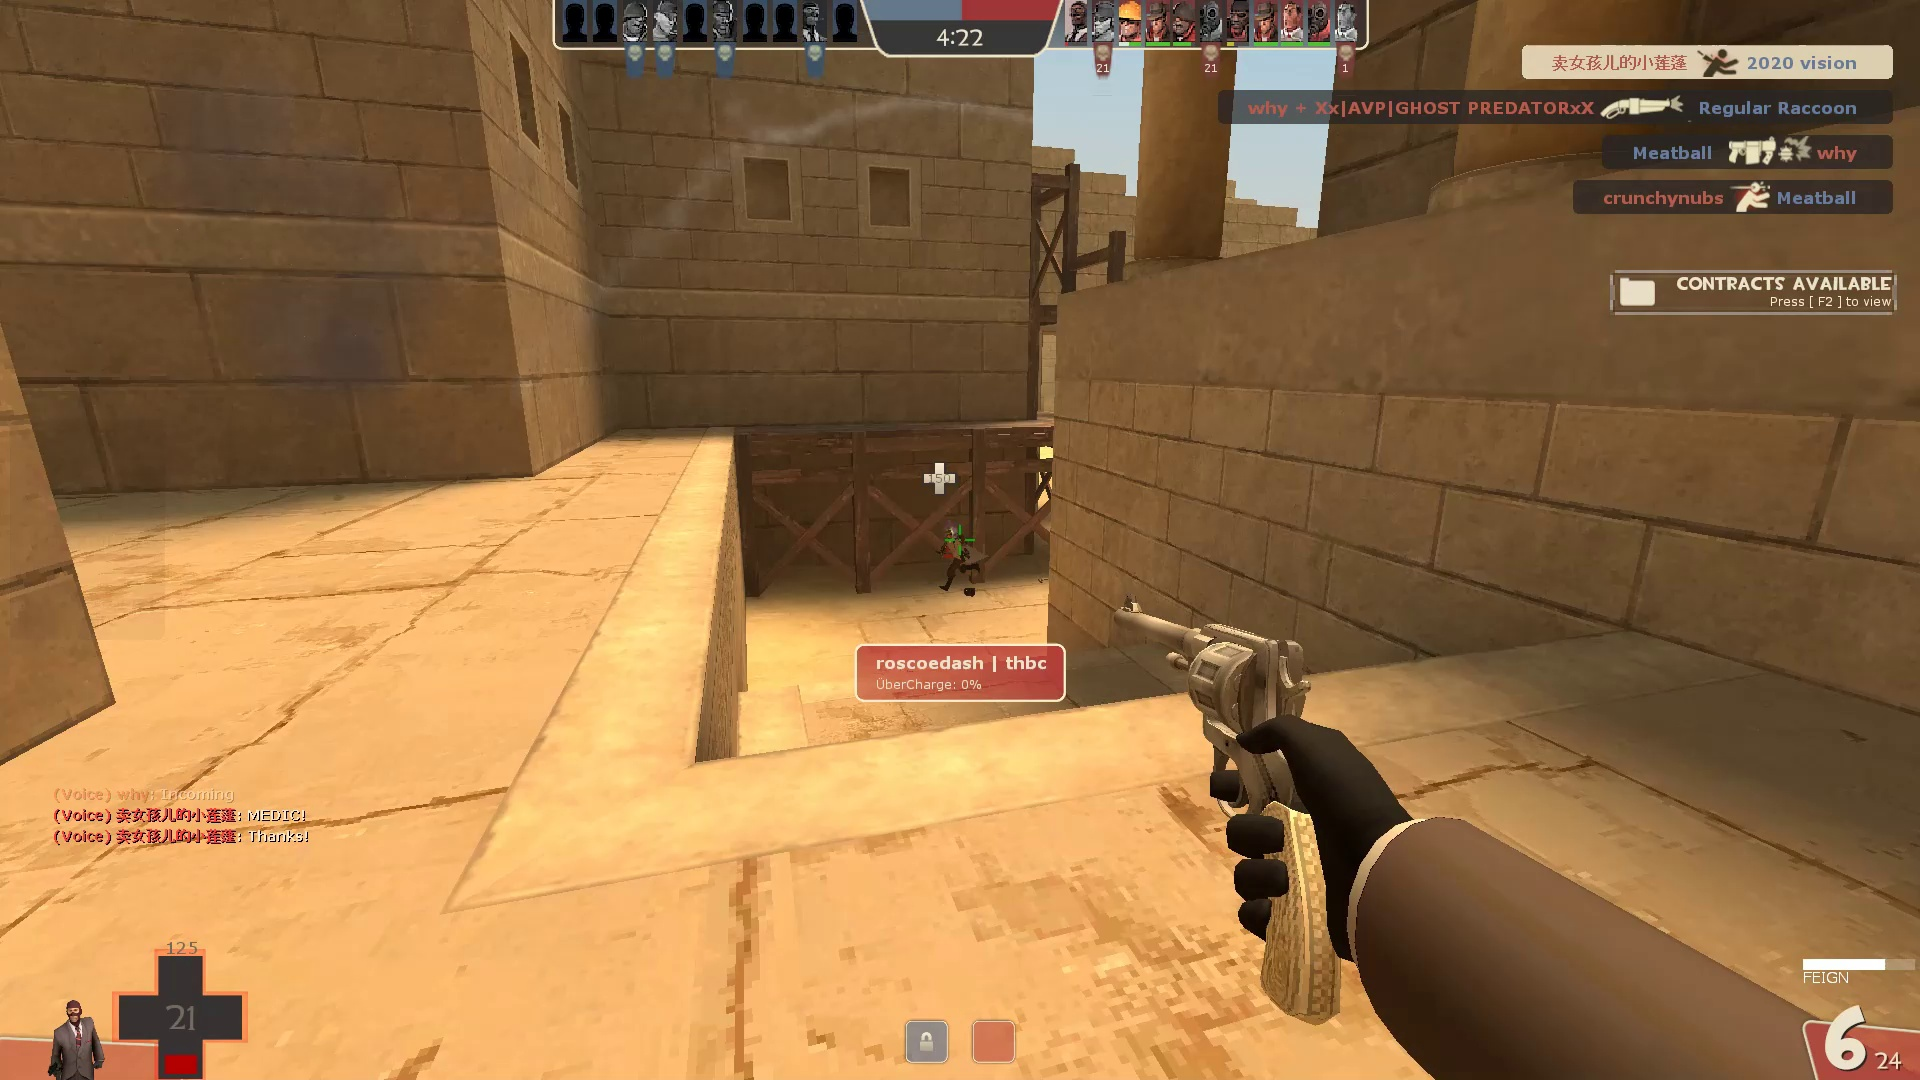red_medic: (936, 524, 992, 597)
